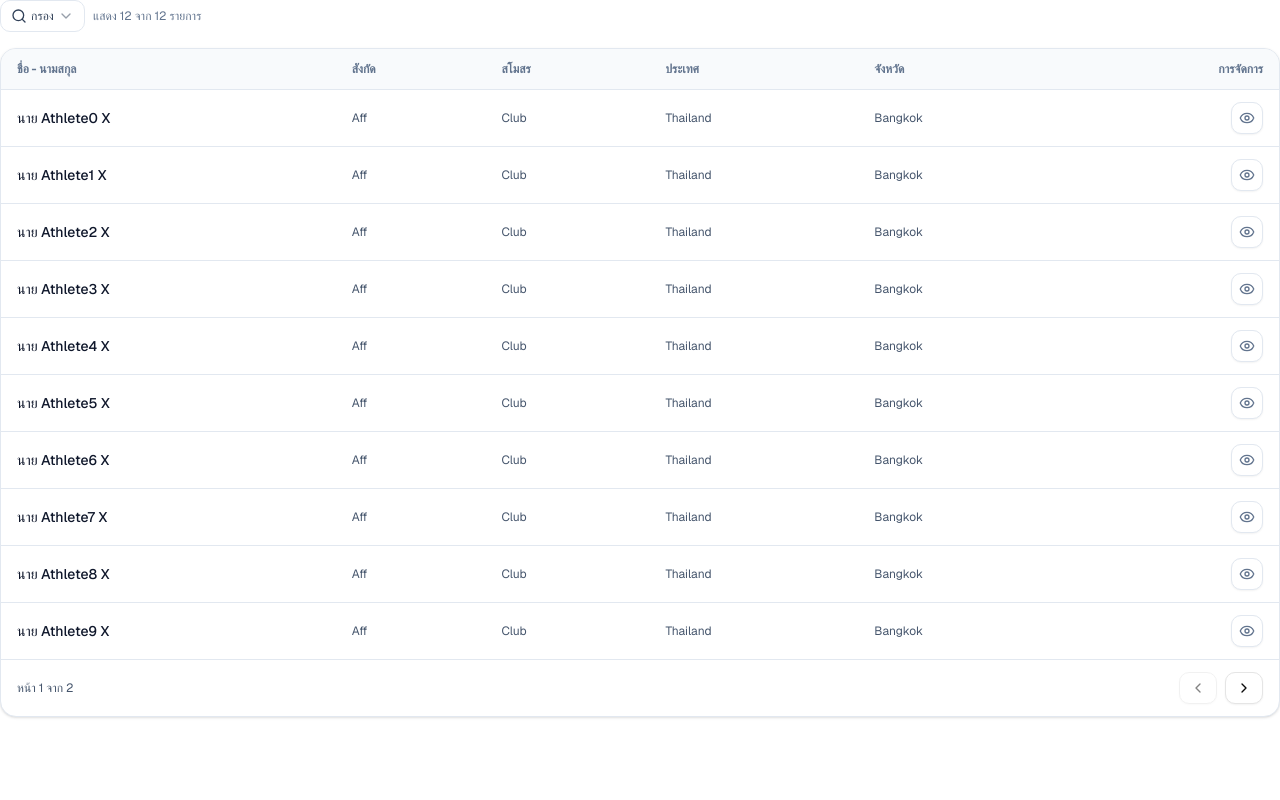
Test case: AthletesList › filters rows via the search box
# The filter panel is collapsed by default — open it to reveal the search box.
Click the button with aria-label "ค้นหาและกรองขั้นสูง" at [42, 16], box x1=0 y1=0 x2=85 y2=32
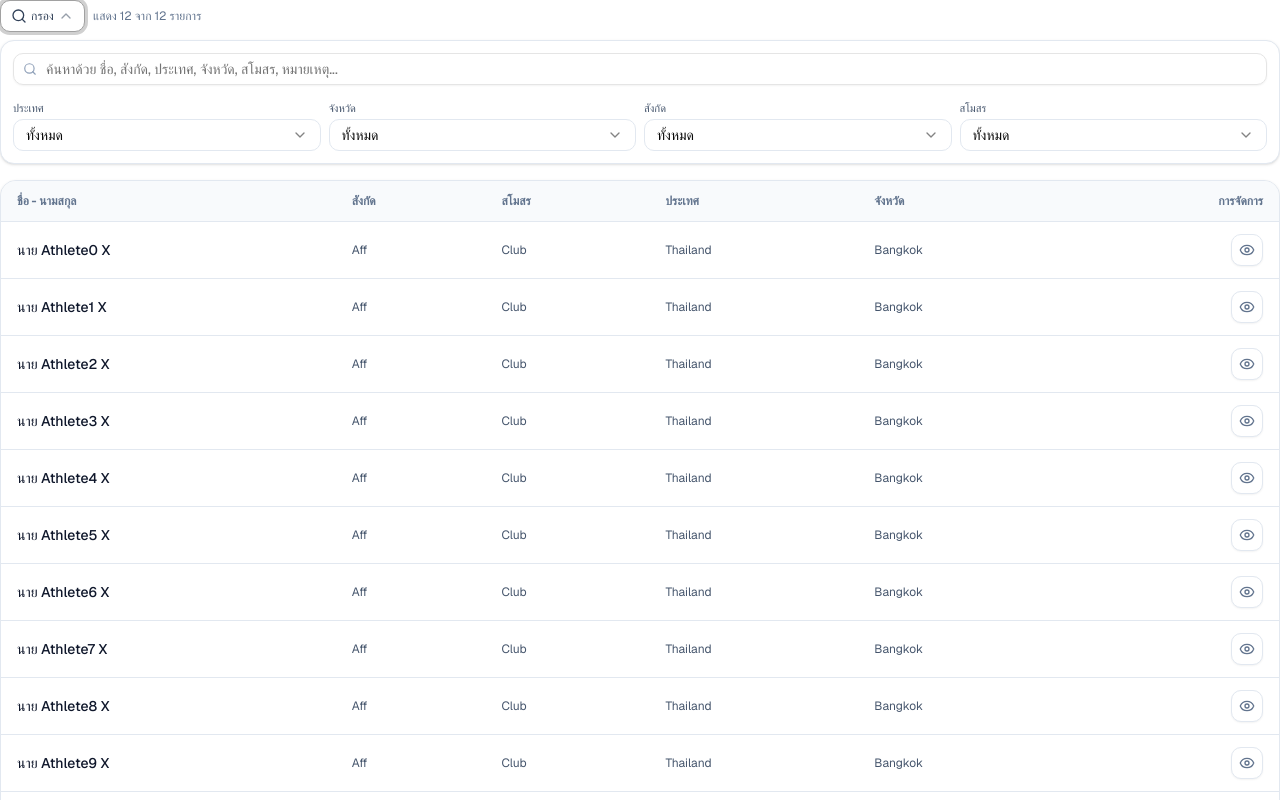
Type "Athlete5" into the field with placeholder "ค้นหาด้วย ชื่อ, สังกัด, ประเทศ, จังหวัด, สโมสร, หมายเหตุ..." at [640, 69], box x1=13 y1=53 x2=1267 y2=85
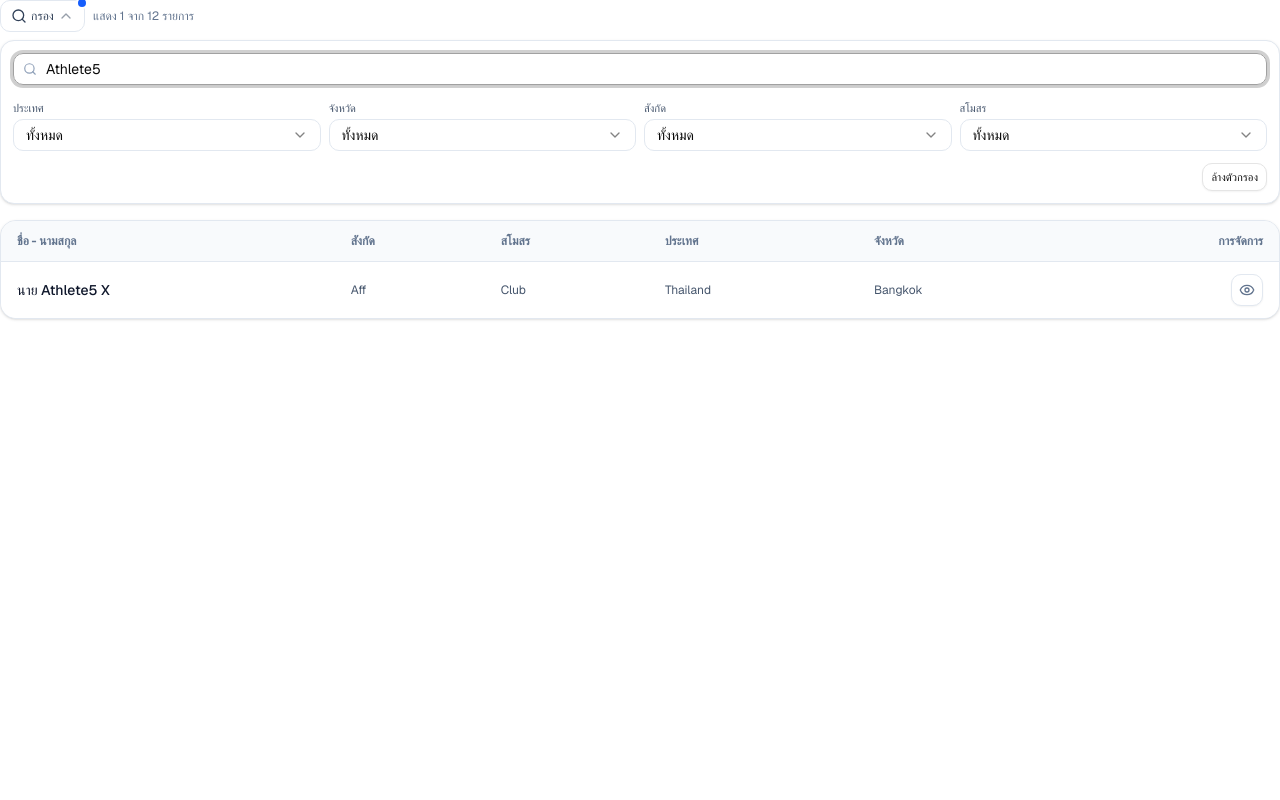
Expected: the text "นาย Athlete5 X" is shown, x1=1 y1=262 x2=335 y2=318
Expected: the text "Athlete4" is gone
